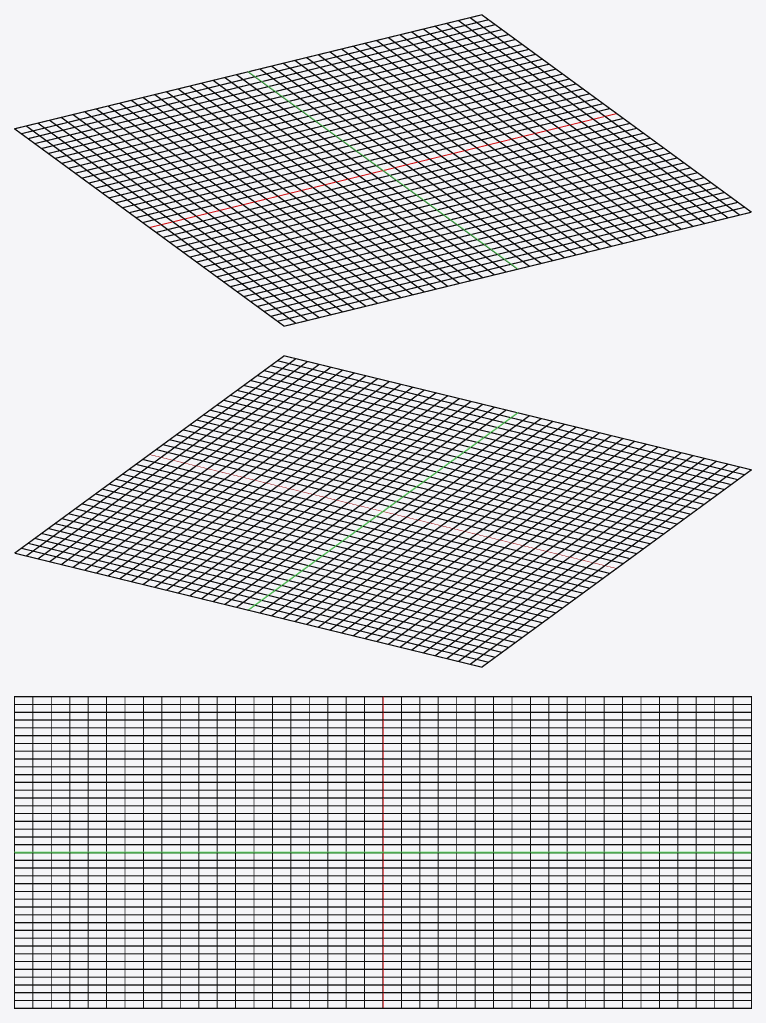
The picture shows the model from 3 angles, top to bottom: view 1: azimuth 30°, elevation 25°; view 2: azimuth 150°, elevation 25°; view 3: azimuth 270°, elevation 25°; orthographic projection. The views are drawn at different scales.
Visible parts, largest first — view 1: Curve.064, Curve.021, Curve.126; view 2: Curve.064, Curve.126; view 3: Curve.064, Curve.126, Curve.021.
Part boxes in pixels (x1,y1,x2,y2): Curve.064: [14, 14, 751, 326]; Curve.021: [150, 113, 616, 227]; Curve.126: [248, 71, 517, 268]; Curve.064: [14, 355, 751, 667]; Curve.126: [248, 412, 517, 609]; Curve.064: [14, 696, 751, 1008]; Curve.126: [14, 851, 751, 853]; Curve.021: [382, 696, 383, 1007].
Size of the model in its own units: 157 by 0.2945 by 157.
